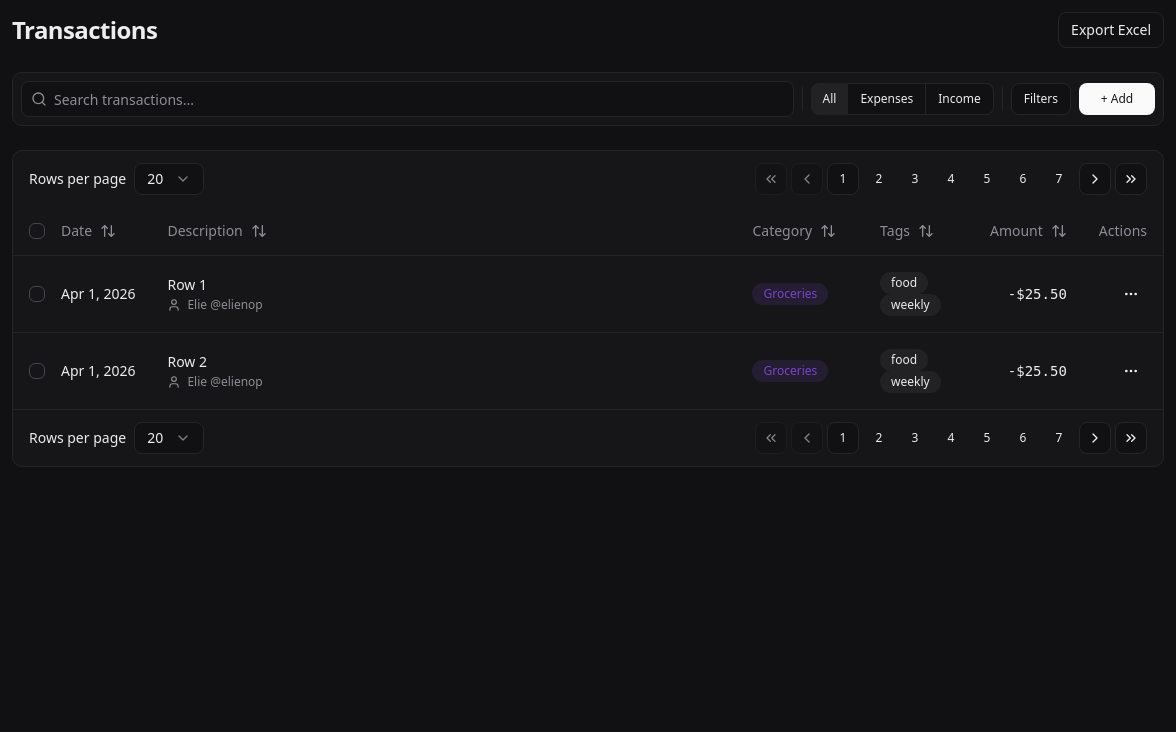
Transactions page › selection state machine › selecting every visible row surfaces the "Select all X matching" banner when more rows exist
This screenshot has width=1176, height=732.
// Click both row checkboxes.
Click the checkbox named "select row 1".
click(37, 294)  # box [29, 286, 45, 302]
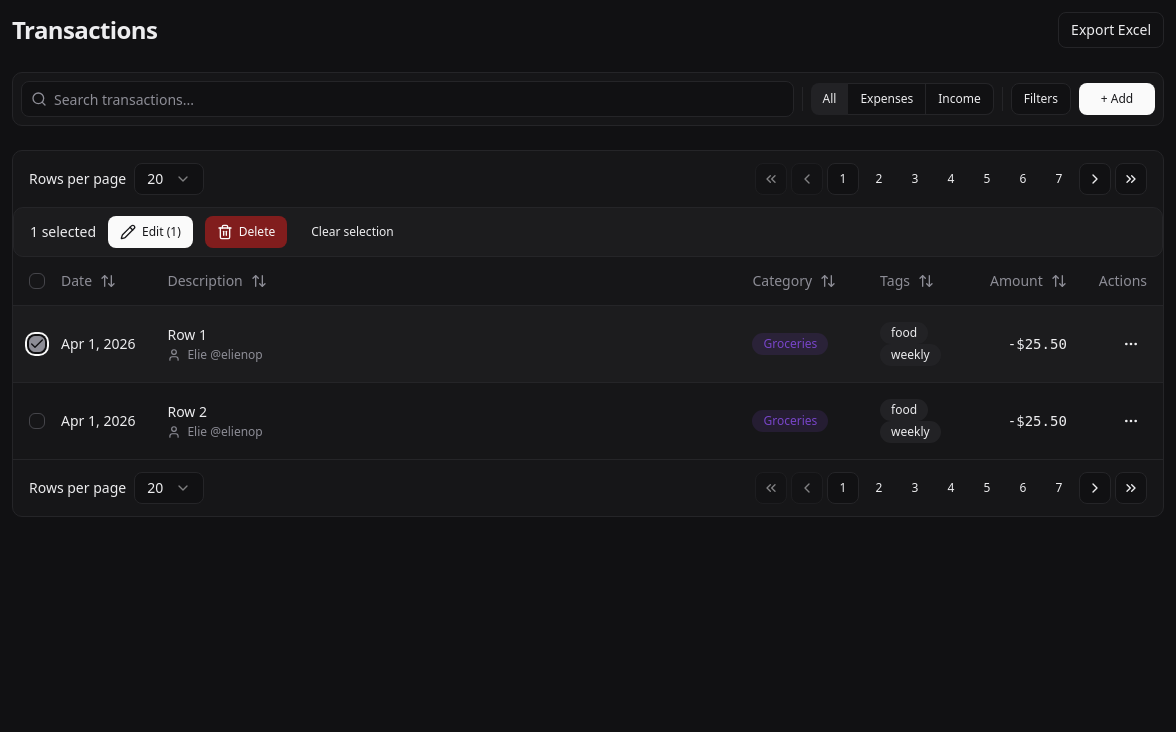
Click the checkbox named "select row 2".
click(37, 420)  # box [29, 412, 45, 428]
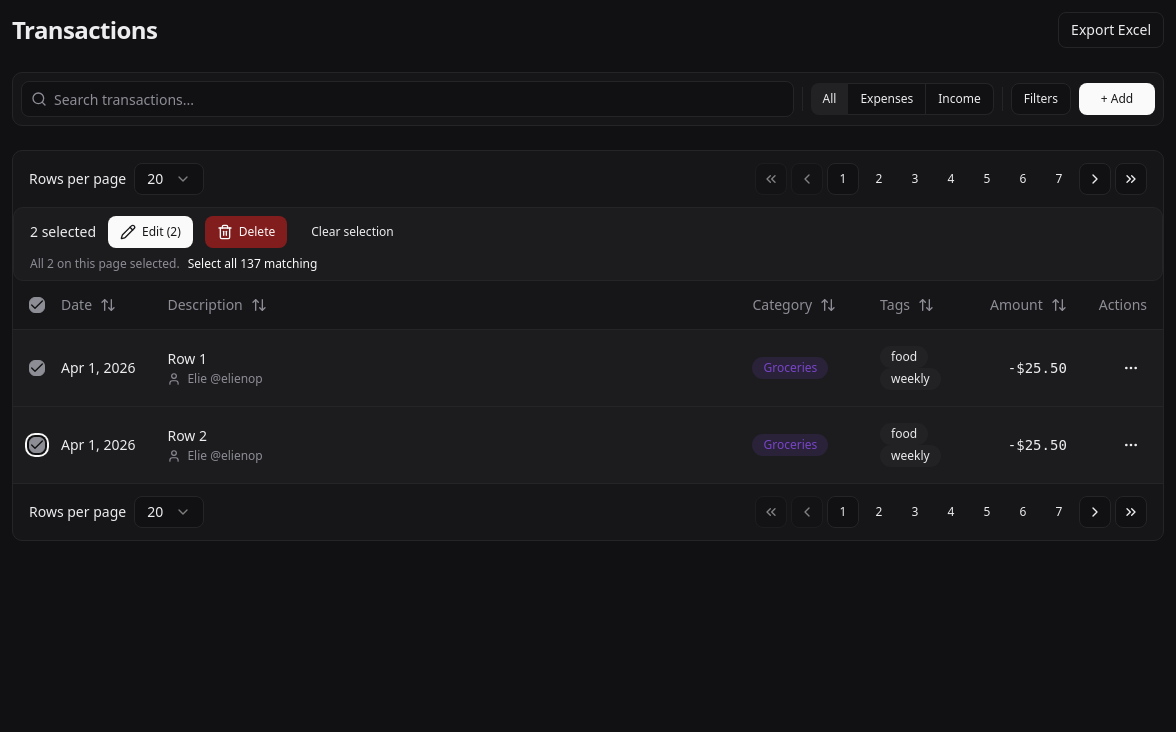
Expected: the text "2 selected" is shown, [30, 222, 96, 242]
Expected: the button "Select all 137 matching" is shown, [188, 256, 317, 272]
